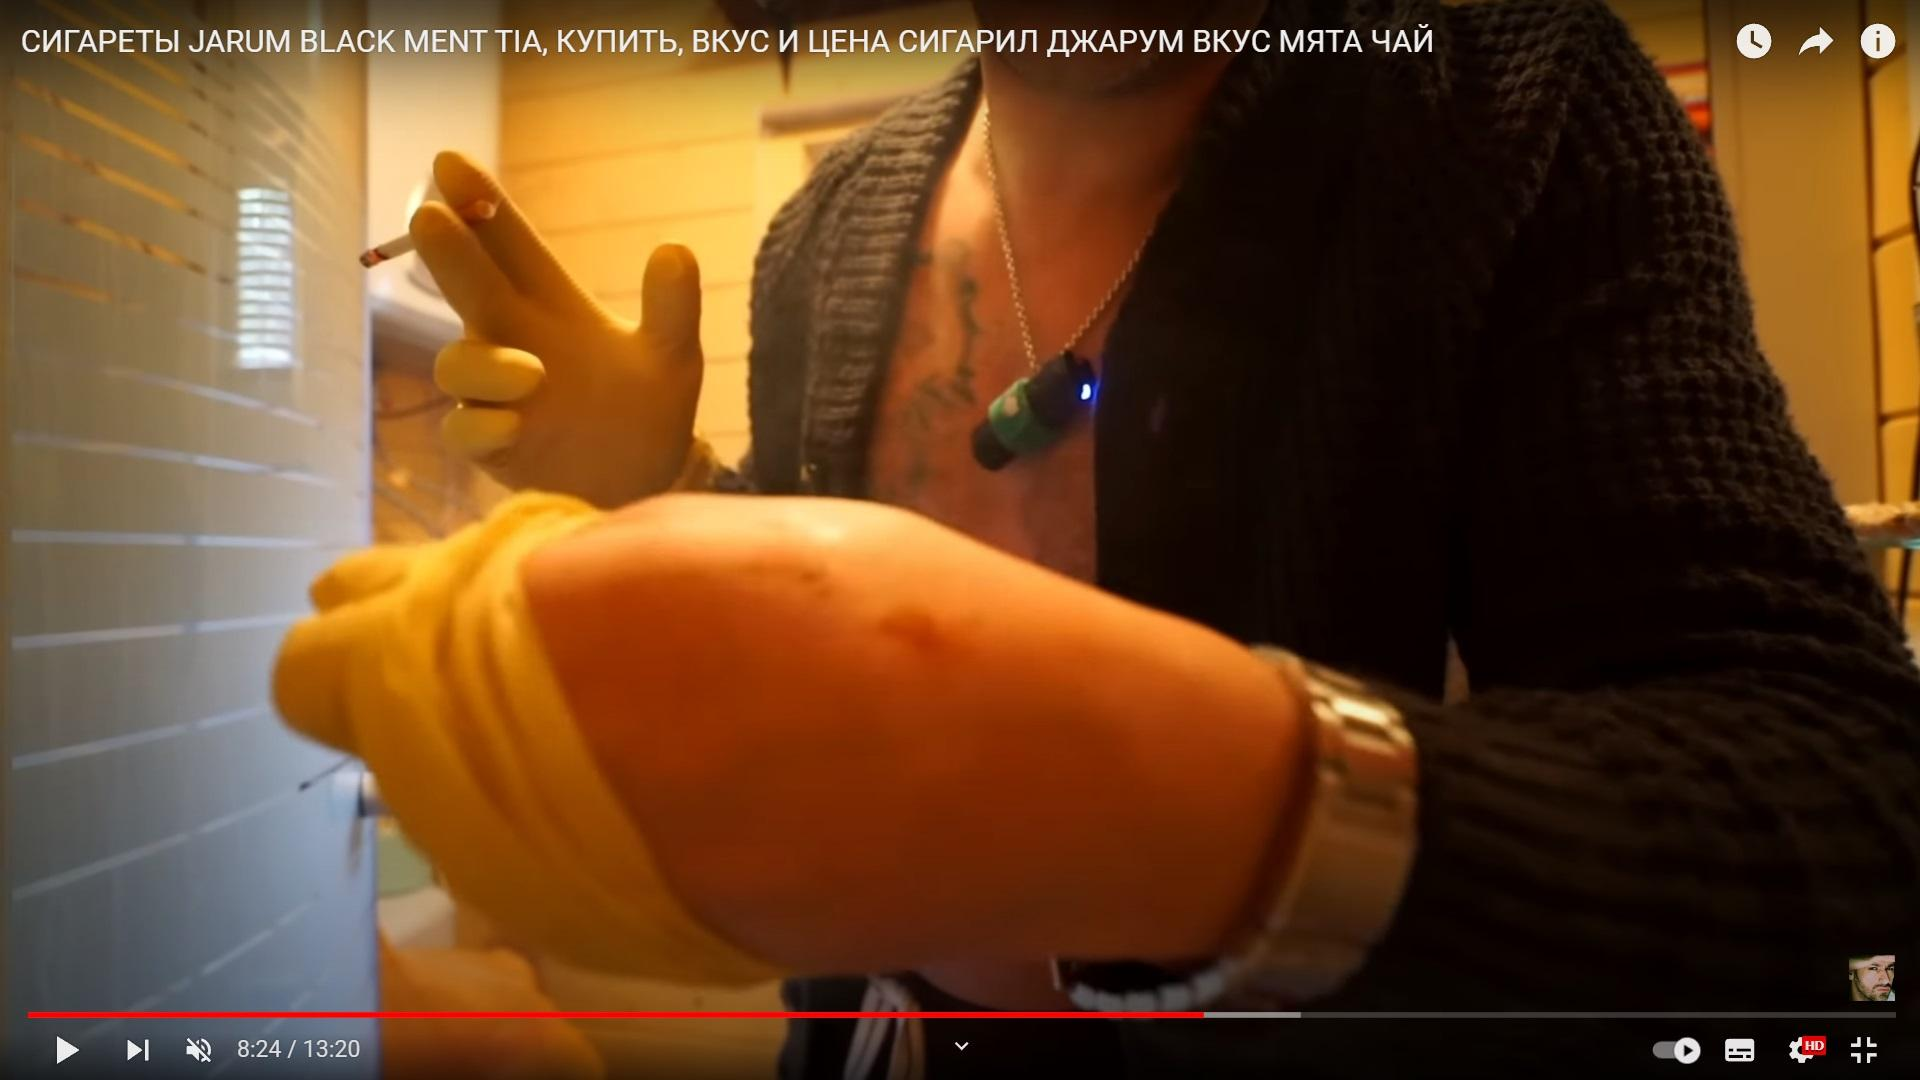cigarette: (359, 198, 497, 268)
